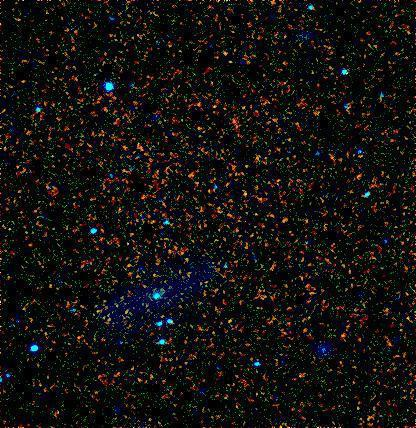star: (287, 359, 317, 389)
